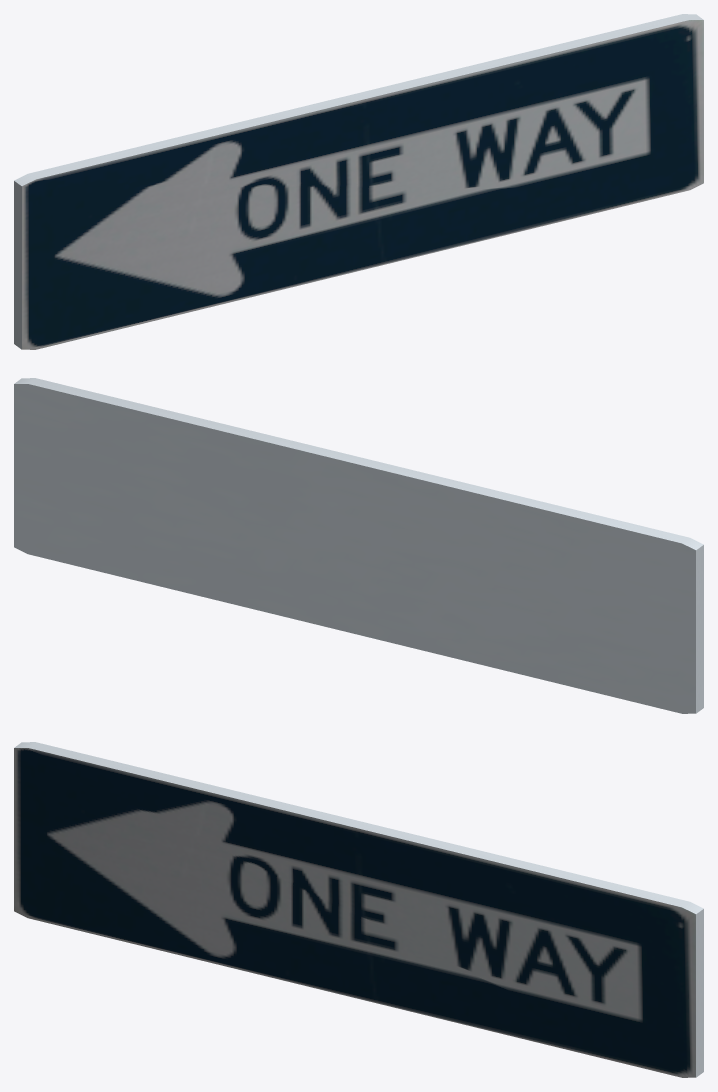
File: SIgnBoard_6.fbx
The picture shows the model from 3 angles, top to bottom: view 1: azimuth 30°, elevation 25°; view 2: azimuth 150°, elevation 25°; view 3: azimuth 330°, elevation 25°; orthographic projection.
Visible parts, largest first — view 1: SIgnBoard_6; view 2: SIgnBoard_6; view 3: SIgnBoard_6.
Part boxes in pixels (x1,y1,x2,y2): SIgnBoard_6: (14, 14, 703, 349); SIgnBoard_6: (14, 378, 703, 713); SIgnBoard_6: (14, 742, 703, 1077).
Size of the model in its own units: 1.27 by 0.304 by 0.0255.
